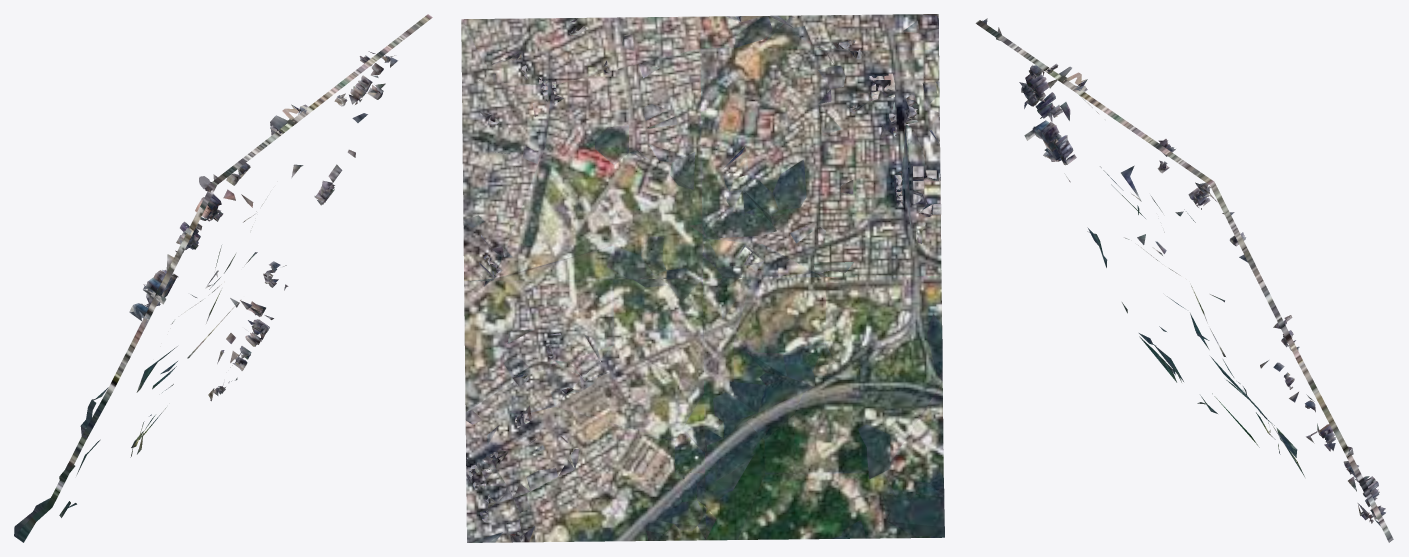
The picture shows the model from 3 angles, left to right: view 1: azimuth 30°, elevation 25°; view 2: azimuth 150°, elevation 25°; view 3: azimuth 270°, elevation 25°; orthographic projection. The views are drawn at different scales.
Bounding box in the file's own units: 2487 × 2247 × 2073.
Materials: 1 (1 with a texture image).
